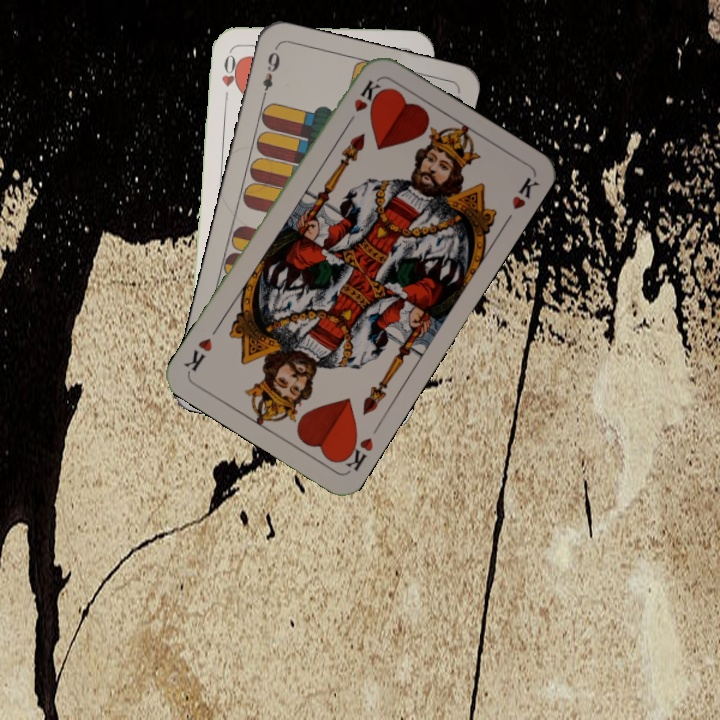E9: (258, 45, 283, 103)
HK: (342, 76, 383, 129), (335, 429, 376, 474)
HO: (217, 44, 239, 102)
